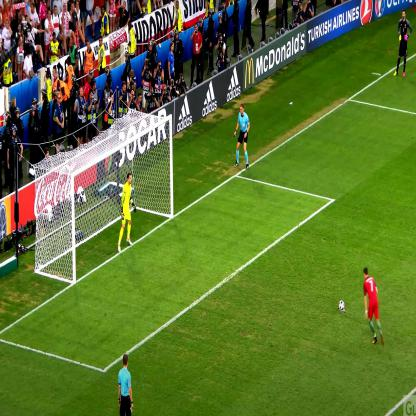penalty kick: (38, 125, 393, 345)
